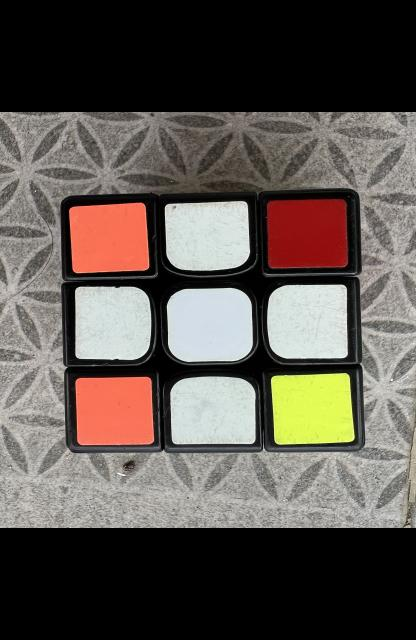Orange: (68, 203, 148, 273), (74, 376, 153, 446)
Red: (266, 199, 347, 268)
White: (166, 288, 252, 362), (266, 284, 347, 359), (164, 201, 249, 271), (169, 376, 254, 445), (74, 286, 150, 360)
Yellow: (270, 373, 353, 445)
